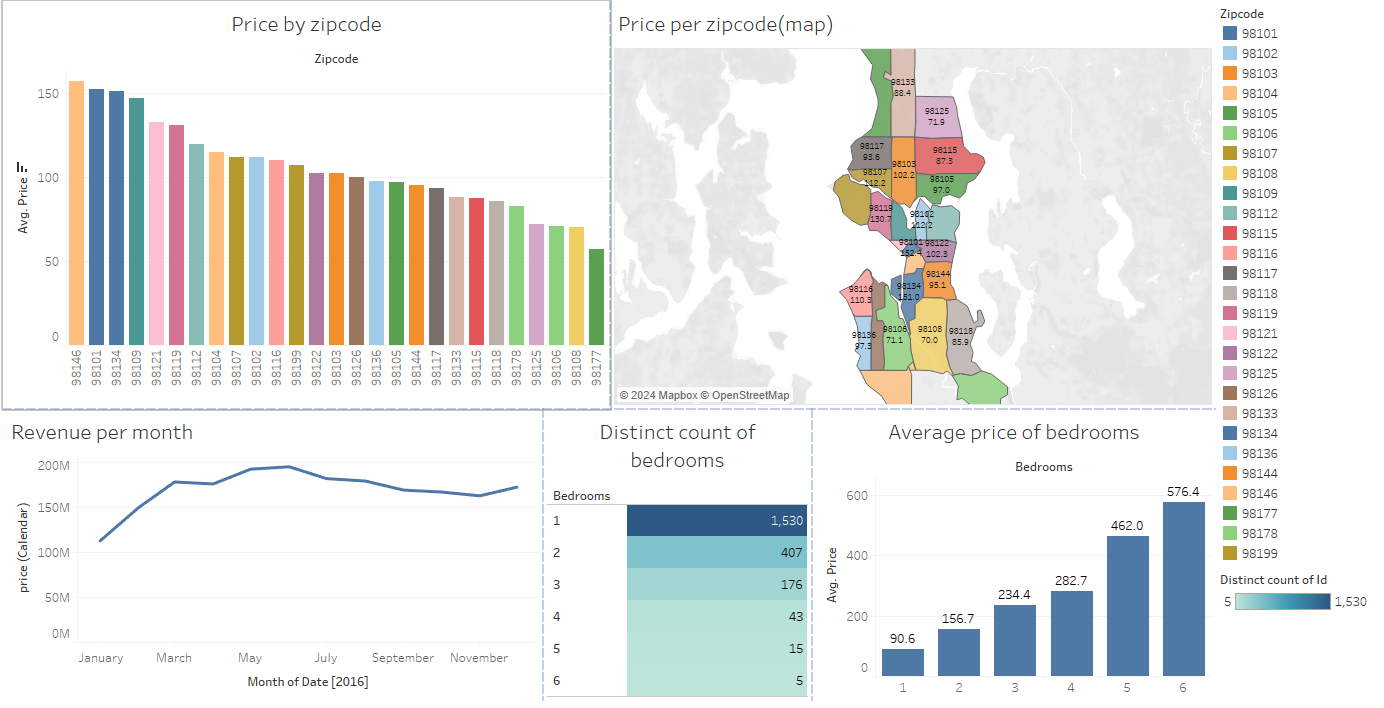

The page's visual inventory and layout, read from the dashboard file:
{"tool":"tableau","page":{"name":"Dashboard 1","canvas":[1000,1000],"units":"permille","ordinal":0},"visuals":[{"type":"worksheet","title":"Price by zipcode","mark":"Automatic","rows":["price"],"cols":["zipcode"],"box":[5.8,11.2,436.7,569.8]},{"type":"worksheet","title":"Price per zipcode(map)","mark":"Multipolygon","box":[442.4,11.2,436.6,569.8]},{"type":"legend","title":"Price by zipcode","param":"[federated.1xbaee00ou8inh16iksf50fqtsj6].[none:zipcode:ok]","box":[879.1,11.2,115.2,790.5]},{"type":"worksheet","title":"Revenue per month","mark":"Automatic","rows":["price (Calendar)"],"cols":["date"],"box":[5.8,581,388.8,407.8]},{"type":"worksheet","title":"Sheet 5","mark":"Square","rows":["bedrooms"],"box":[394.5,581,193.4,407.8]},{"type":"worksheet","title":"Sheet 4","mark":"Automatic","rows":["price"],"cols":["bedrooms"],"box":[588,581,291.1,407.8]},{"type":"legend","title":"Sheet 5","param":"[federated.1xbaee00ou8inh16iksf50fqtsj6].[ctd:id:qk]","box":[879.1,801.7,115.2,90.8]}]}

Visuals, with their boxes on the dashboard's canvas, which has no fixed pixel size, in thousandths of its width and height (x1, y1, x2, y2). These are canvas units, not pixel positions in the 1384x708 screenshot, which may show the page scaled, cropped or inside an application window:
"Price by zipcode" worksheet: 6/11/442/581
"Price per zipcode(map)" worksheet (Multipolygon marks): 442/11/879/581
"Price by zipcode" legend: 879/11/994/802
"Revenue per month" worksheet: 6/581/395/989
"Sheet 5" worksheet (Square marks): 394/581/588/989
"Sheet 4" worksheet: 588/581/879/989
"Sheet 5" legend: 879/802/994/892
